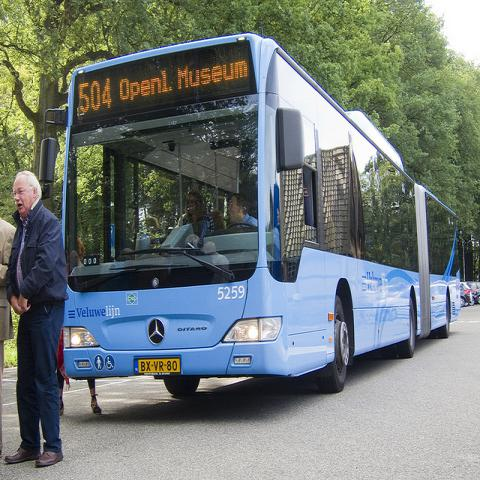bus: (62, 27, 461, 399)
car: (467, 280, 479, 307), (461, 282, 472, 306)
